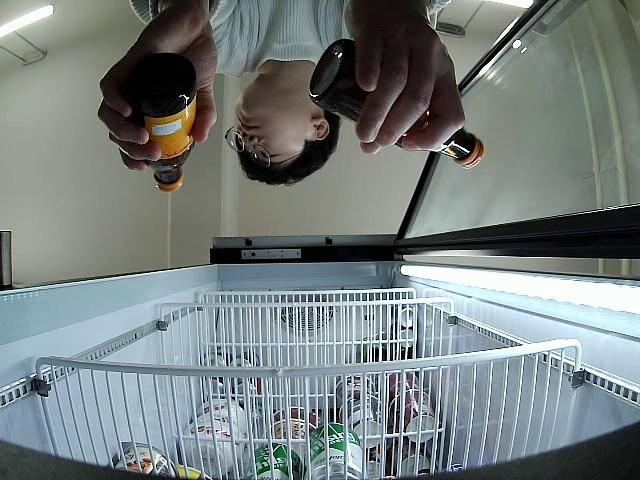17_vita500: (310, 36, 486, 170), (122, 54, 197, 193)
